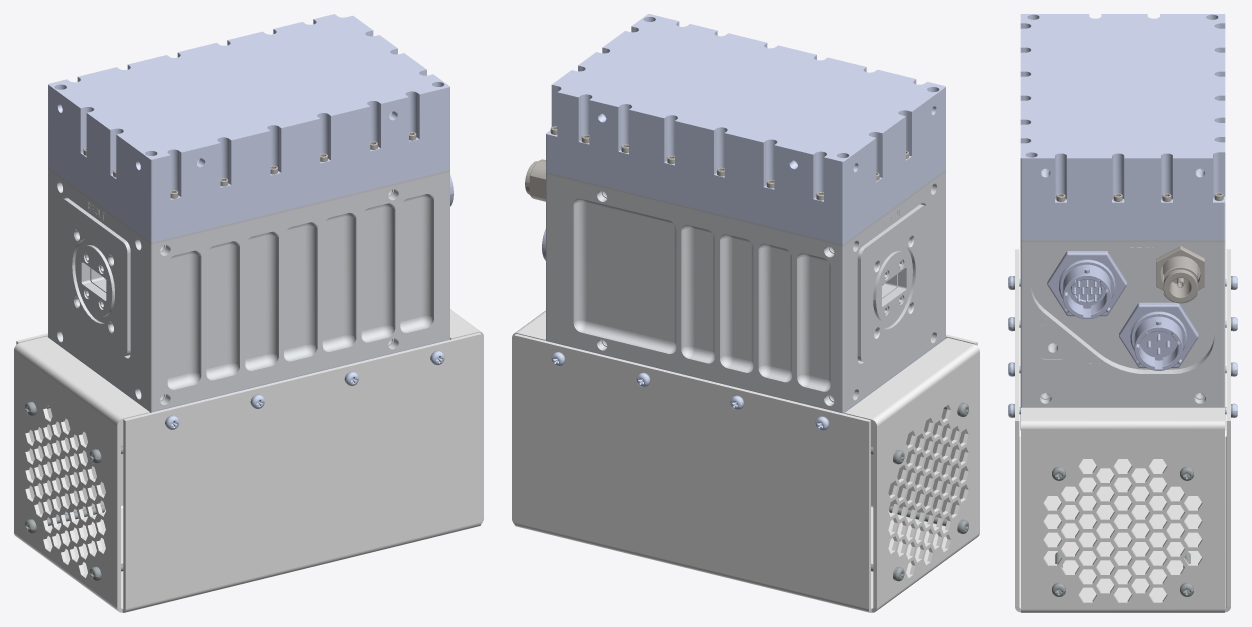
File: ATOM_KU_BUC.glb
3 renders of one model, left to right at view 1: azimuth 30°, elevation 25°; view 2: azimuth 150°, elevation 25°; view 3: azimuth 270°, elevation 25°, orthographic.
Visible parts, largest first — view 1: empty_3, empty_62, empty_39, empty_40; view 2: empty_3, empty_62, empty_39, empty_40, empty_38; view 3: empty_39, empty_3, empty_62, empty_36, empty_37, empty_38, empty_40.
Part boxes in pixels (<box>): empty_3: <box>14,309,483,612</box>; empty_62: <box>48,169,449,411</box>; empty_39: <box>48,14,449,242</box>; empty_40: <box>48,167,449,244</box>; empty_3: <box>512,310,979,612</box>; empty_62: <box>546,171,945,412</box>; empty_39: <box>546,14,945,244</box>; empty_40: <box>546,170,945,246</box>; empty_38: <box>525,159,545,201</box>; empty_39: <box>1020,14,1225,240</box>; empty_3: <box>1015,249,1230,612</box>; empty_62: <box>1020,242,1225,407</box>; empty_36: <box>1119,302,1198,370</box>; empty_37: <box>1047,251,1126,318</box>; empty_38: <box>1156,246,1204,303</box>; empty_40: <box>1020,240,1225,242</box>.
Bounding box in the file's own units: 169 × 190 × 89.66.
